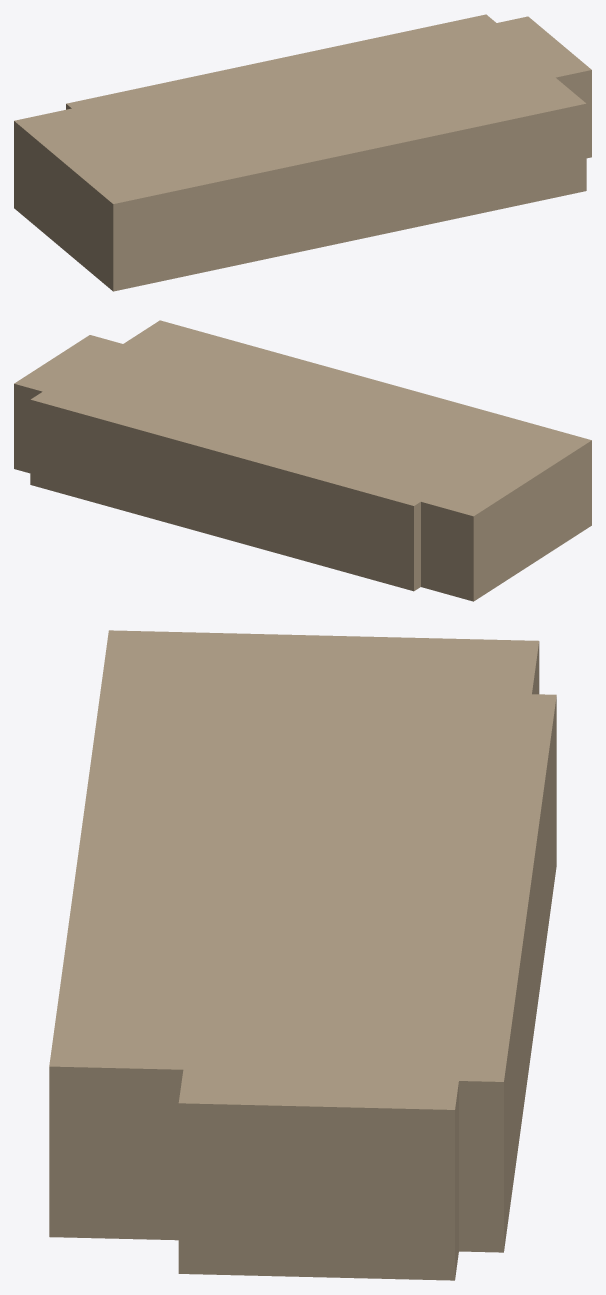
Rendered from bld_48828472.dae.
The picture shows the model from 3 angles, top to bottom: view 1: azimuth 30°, elevation 25°; view 2: azimuth 150°, elevation 25°; view 3: azimuth 270°, elevation 25°; orthographic projection. The views are drawn at different scales.
Parts seen in each view (by area): view 1: Maldon Library; view 2: Maldon Library; view 3: Maldon Library.
Boxes of the visible parts, x1,y1,x2,y2 form: Maldon Library: (14,14,591,291); Maldon Library: (14,320,591,601); Maldon Library: (49,630,556,1280).
Size of the model in its own units: 48.24 by 21.57 by 8.
